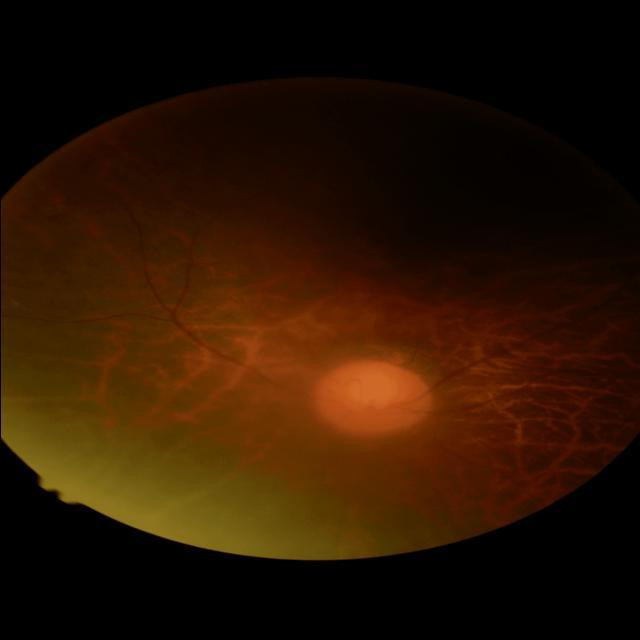cup: (333, 372, 415, 418)
disk: (316, 362, 432, 436)
